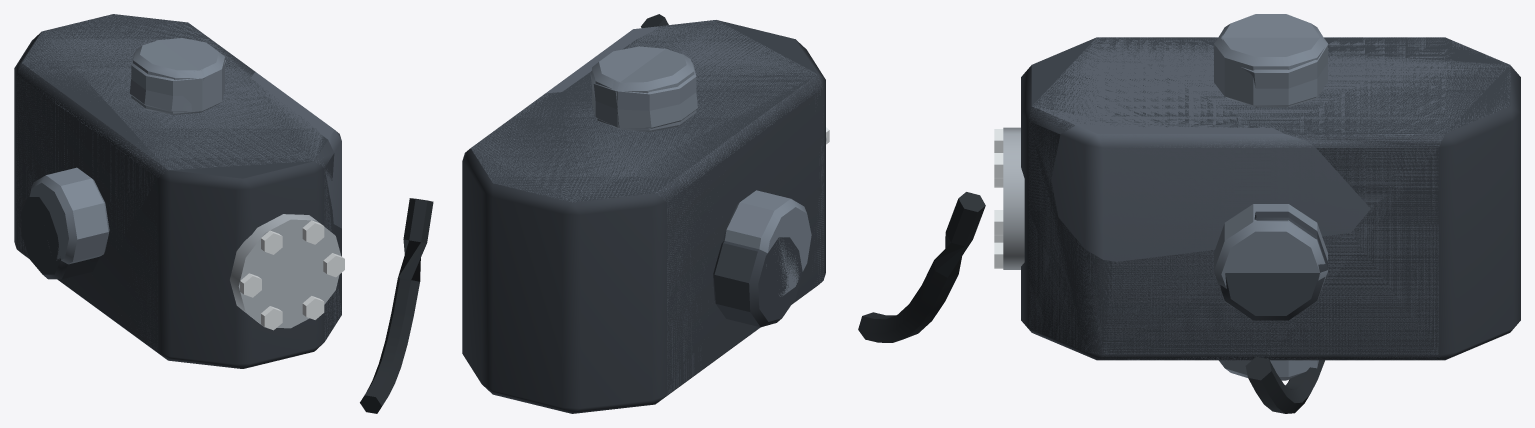
File: shr_cmp_generic_joint_steel_a.glb
3 views of the same model, side by side, from view 1: azimuth 30°, elevation 25°; view 2: azimuth 150°, elevation 25°; view 3: azimuth 270°, elevation 25° (orthographic). The views are drawn at different scales.
Parts seen in each view (by area): view 1: mesh_heavy, mesh_intact, mesh_light; view 2: mesh_heavy, mesh_light, mesh_intact; view 3: mesh_heavy, mesh_intact, mesh_light.
Boxes of the visible parts, bbox=[...] form: mesh_heavy: bbox=[14, 14, 433, 413]; mesh_intact: bbox=[29, 22, 341, 340]; mesh_light: bbox=[16, 14, 332, 357]; mesh_heavy: bbox=[462, 14, 829, 413]; mesh_light: bbox=[471, 20, 823, 398]; mesh_intact: bbox=[471, 20, 826, 296]; mesh_heavy: bbox=[858, 14, 1520, 413]; mesh_intact: bbox=[994, 34, 1508, 380]; mesh_light: bbox=[1033, 35, 1510, 360].
Bounding box in the file's own units: 0.2028 × 0.2166 × 0.3713.
